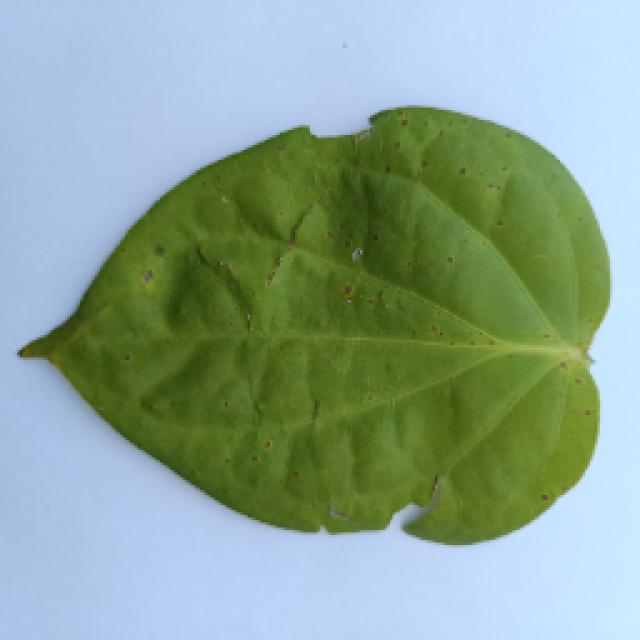slow-decline: (8, 112, 608, 550)
